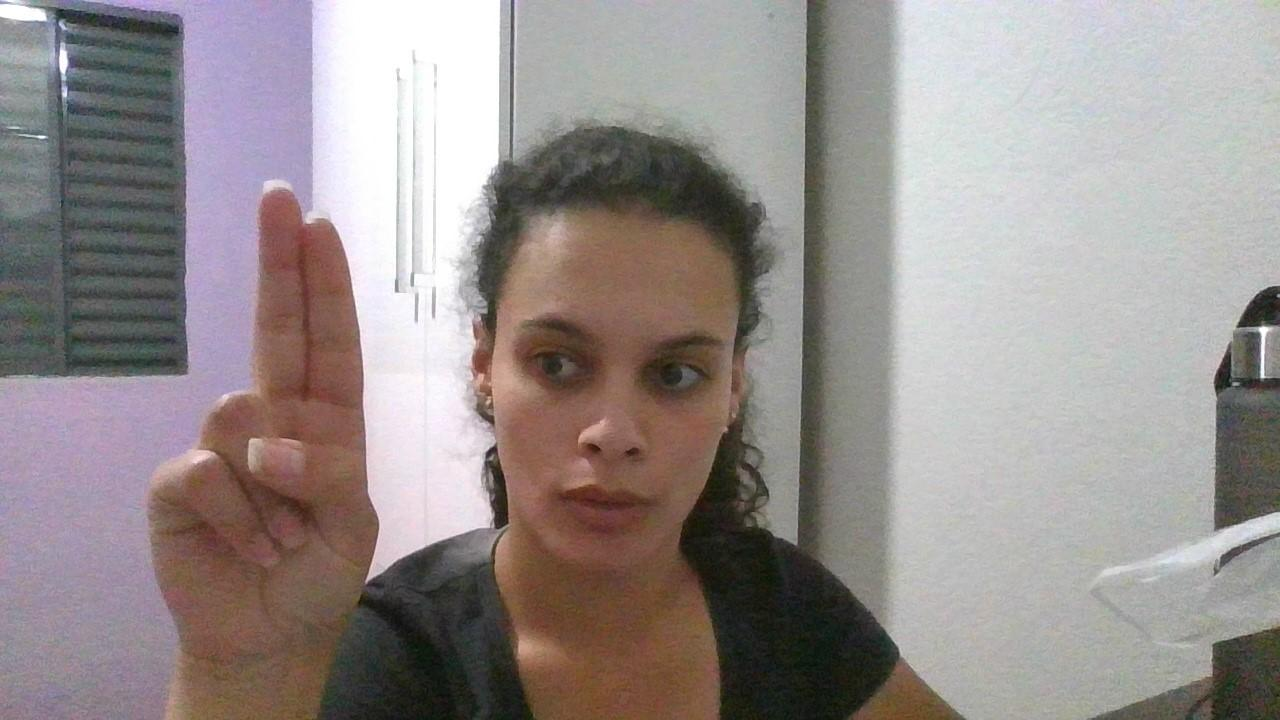U: (142, 174, 392, 664)
